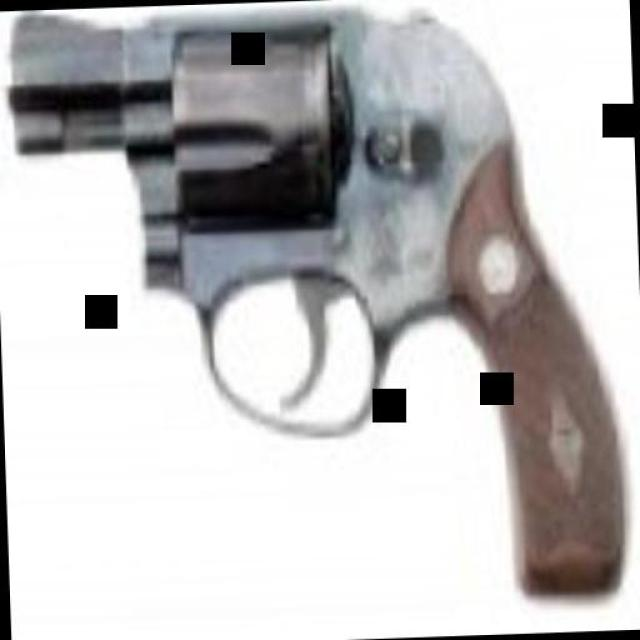gun: (2, 0, 622, 611)
